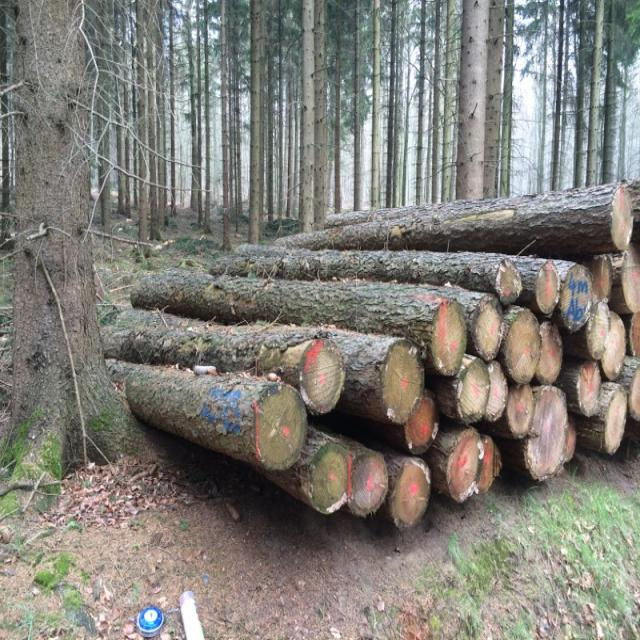wood-log: (254, 383, 306, 470), (524, 385, 566, 483), (382, 338, 424, 423), (299, 340, 345, 413), (309, 440, 351, 515), (389, 457, 430, 528), (447, 428, 485, 503), (430, 298, 466, 377), (348, 450, 389, 517), (504, 310, 540, 383), (404, 388, 439, 455), (470, 295, 504, 362), (456, 359, 490, 423), (561, 263, 591, 333), (535, 322, 562, 385), (602, 310, 626, 380), (604, 388, 628, 455), (504, 385, 534, 438), (610, 185, 633, 252), (484, 360, 508, 422), (476, 436, 502, 493), (584, 255, 614, 303), (576, 360, 601, 417), (586, 302, 610, 360), (535, 260, 561, 313), (621, 245, 640, 313), (495, 258, 522, 305), (628, 365, 639, 422), (566, 415, 576, 463), (630, 312, 640, 358)
